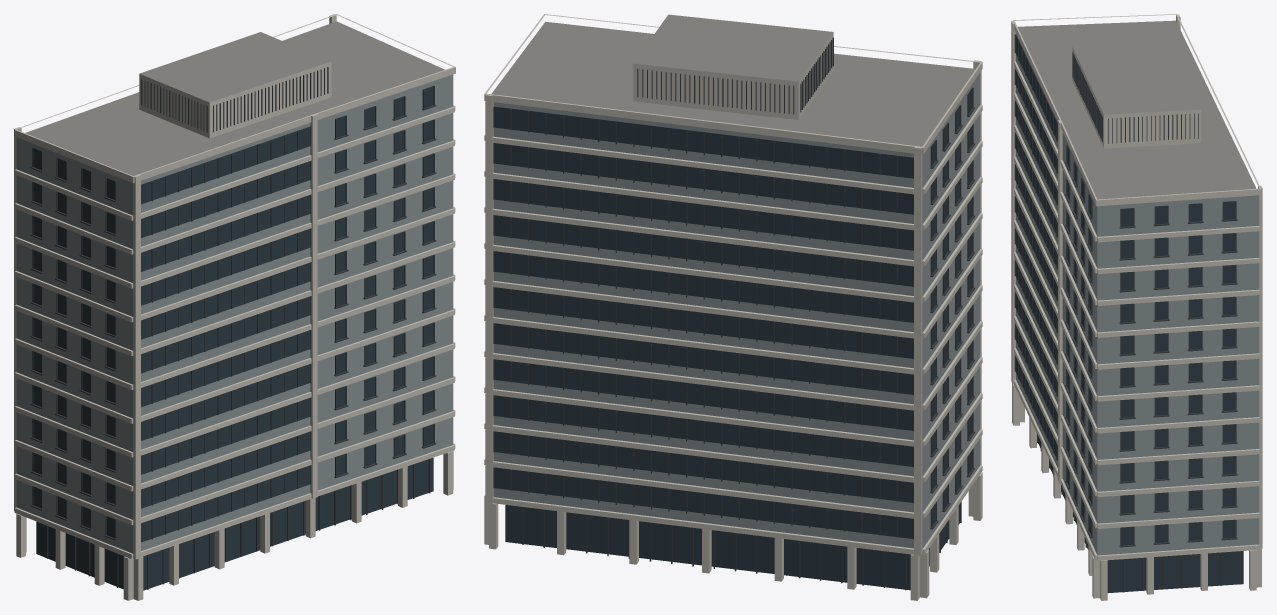
Rendered from newcombe_house.glb.
The picture shows the model from 3 angles, left to right: view 1: azimuth 30°, elevation 25°; view 2: azimuth 150°, elevation 25°; view 3: azimuth 270°, elevation 25°; orthographic projection. The views are drawn at different scales.
Bounding box in the file's own units: 39.62 × 44.03 × 22.87.
